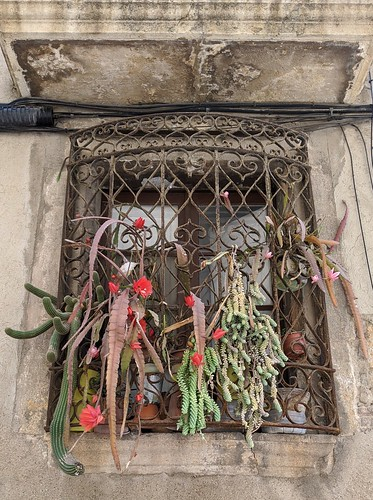vegetation: (34, 252, 288, 466)
window: (48, 106, 342, 453)
